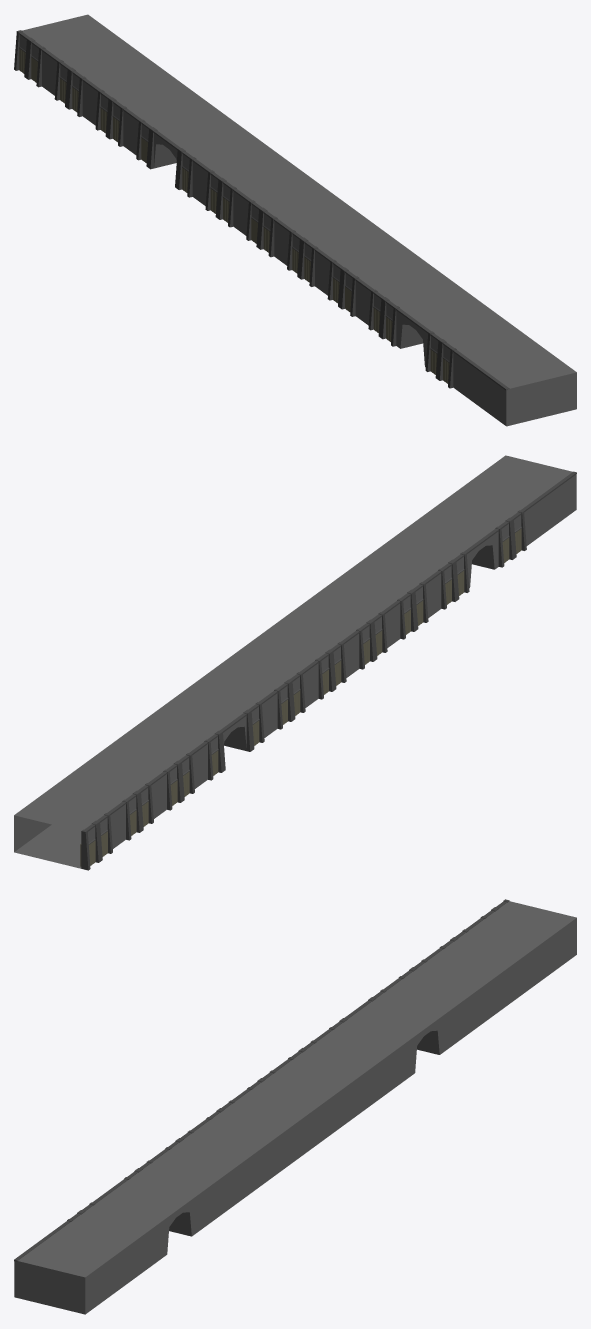
The model's file is traintrack.fbx.
3 renders of one model, top to bottom at view 1: azimuth 30°, elevation 25°; view 2: azimuth 150°, elevation 25°; view 3: azimuth 330°, elevation 25°, orthographic.
Parts seen in each view (by area): view 1: Cube; view 2: Cube; view 3: Cube.
Part boxes in pixels (x1,y1,x2,y2): Cube: (14,14,576,426); Cube: (14,455,576,870); Cube: (14,899,576,1314).
Size of the model in its own units: 2100 by 1020 by 24000.
